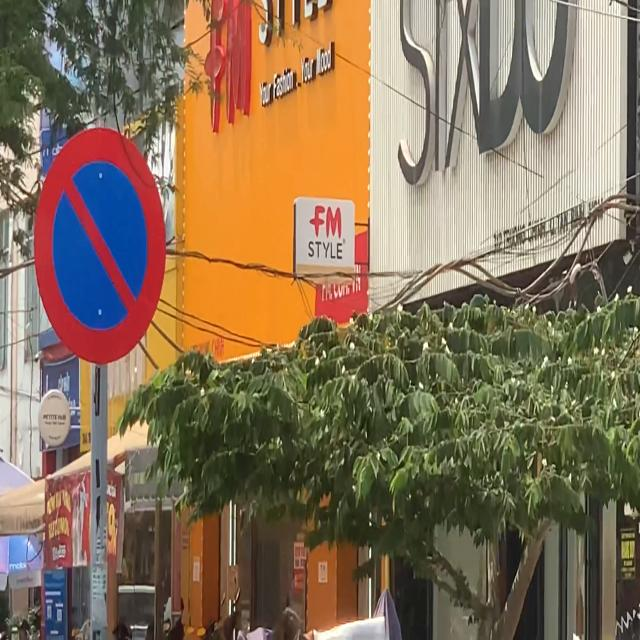Cam do: (32, 125, 168, 369)
